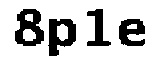1: (81, 5, 114, 51)
8: (12, 7, 44, 51)
e: (113, 15, 149, 51)
p: (46, 15, 81, 60)
